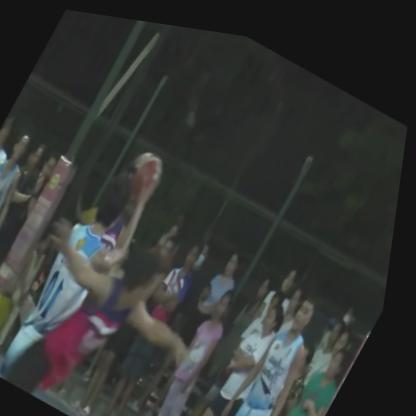basketball: (113, 127, 183, 221)
